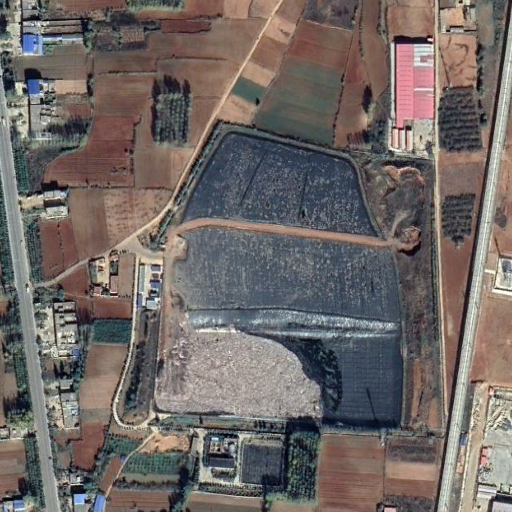lf: (161, 128, 409, 431)
